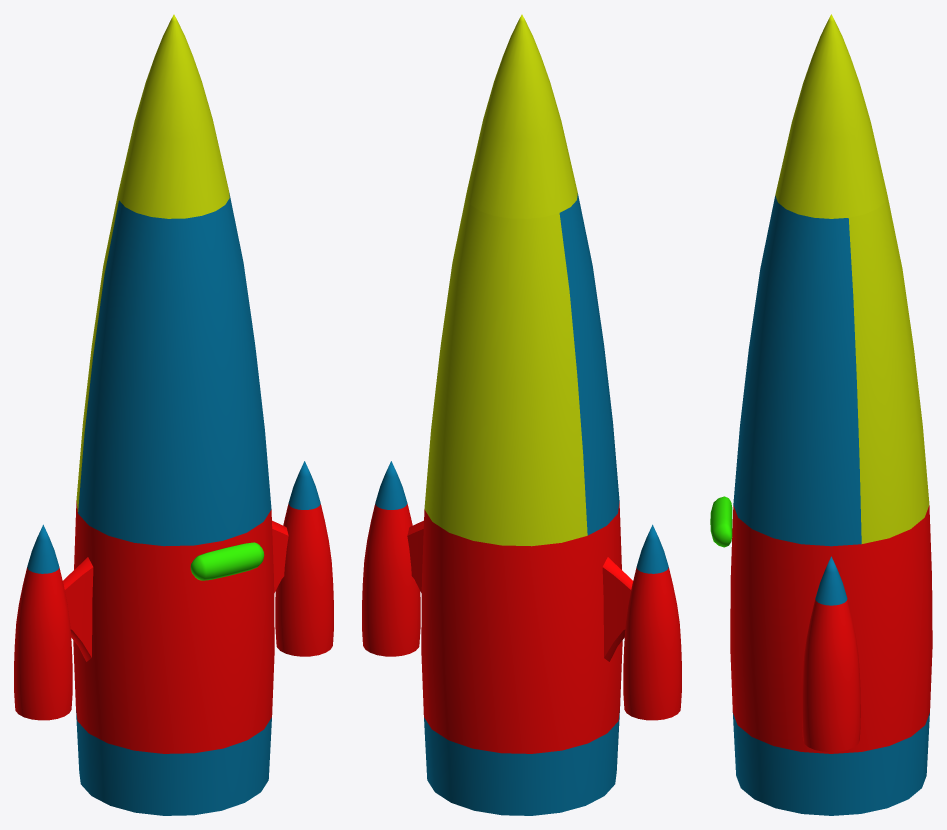
Rendered from S_WardenShip_Unity 1.fbx.
3 views of the same model, side by side, from view 1: azimuth 30°, elevation 25°; view 2: azimuth 150°, elevation 25°; view 3: azimuth 270°, elevation 25° (orthographic).
Parts seen in each view (by area): view 1: Right_Thruster1; view 2: Right_Thruster1; view 3: Right_Thruster1.
Part boxes in pixels (left/top/right/bottom): Right_Thruster1: left=14, top=14, right=333, bottom=815; Right_Thruster1: left=362, top=14, right=681, bottom=815; Right_Thruster1: left=710, top=14, right=932, bottom=815.
Bounding box in the file's own units: 604 × 1409 × 373.
